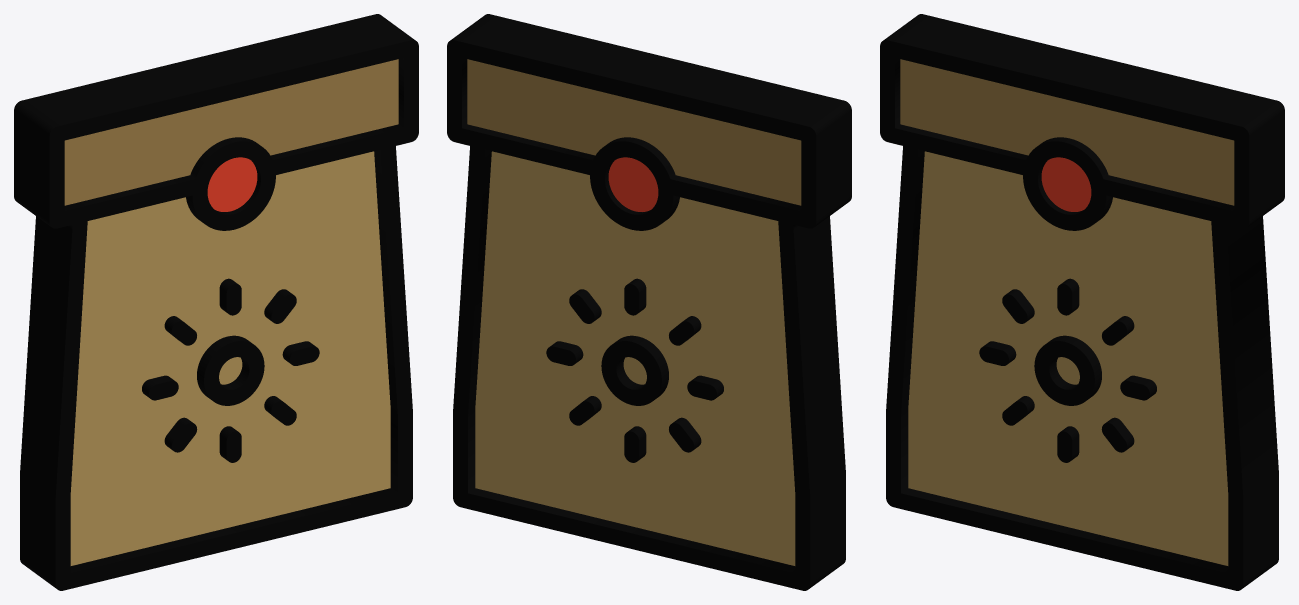
File: Paper Bag.fbx
3 views of the same model, side by side, from view 1: azimuth 30°, elevation 25°; view 2: azimuth 150°, elevation 25°; view 3: azimuth 330°, elevation 25° (orthographic).
Visible parts, largest first — view 1: Curve, Curve.006, Curve.001, Curve.003; view 2: Curve, Curve.006, Curve.001, Curve.003; view 3: Curve, Curve.006, Curve.001, Curve.003.
Boxes of the visible parts, x1,y1,x2,y2 form: Curve: [70, 151, 390, 565]; Curve.006: [14, 14, 418, 590]; Curve.001: [64, 59, 398, 205]; Curve.003: [207, 157, 257, 211]; Curve: [475, 151, 795, 565]; Curve.006: [447, 14, 851, 590]; Curve.001: [467, 59, 801, 205]; Curve.003: [608, 157, 658, 211]; Curve: [908, 151, 1228, 565]; Curve.006: [880, 14, 1284, 590]; Curve.001: [900, 59, 1234, 205]; Curve.003: [1041, 157, 1091, 211].
Bounding box in the file's own units: 120 × 144 × 20.01.
